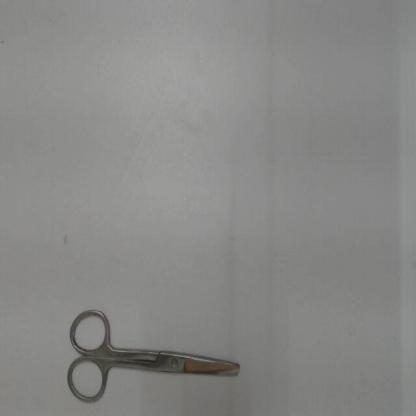Dressing Scissors: (59, 298, 251, 413)
